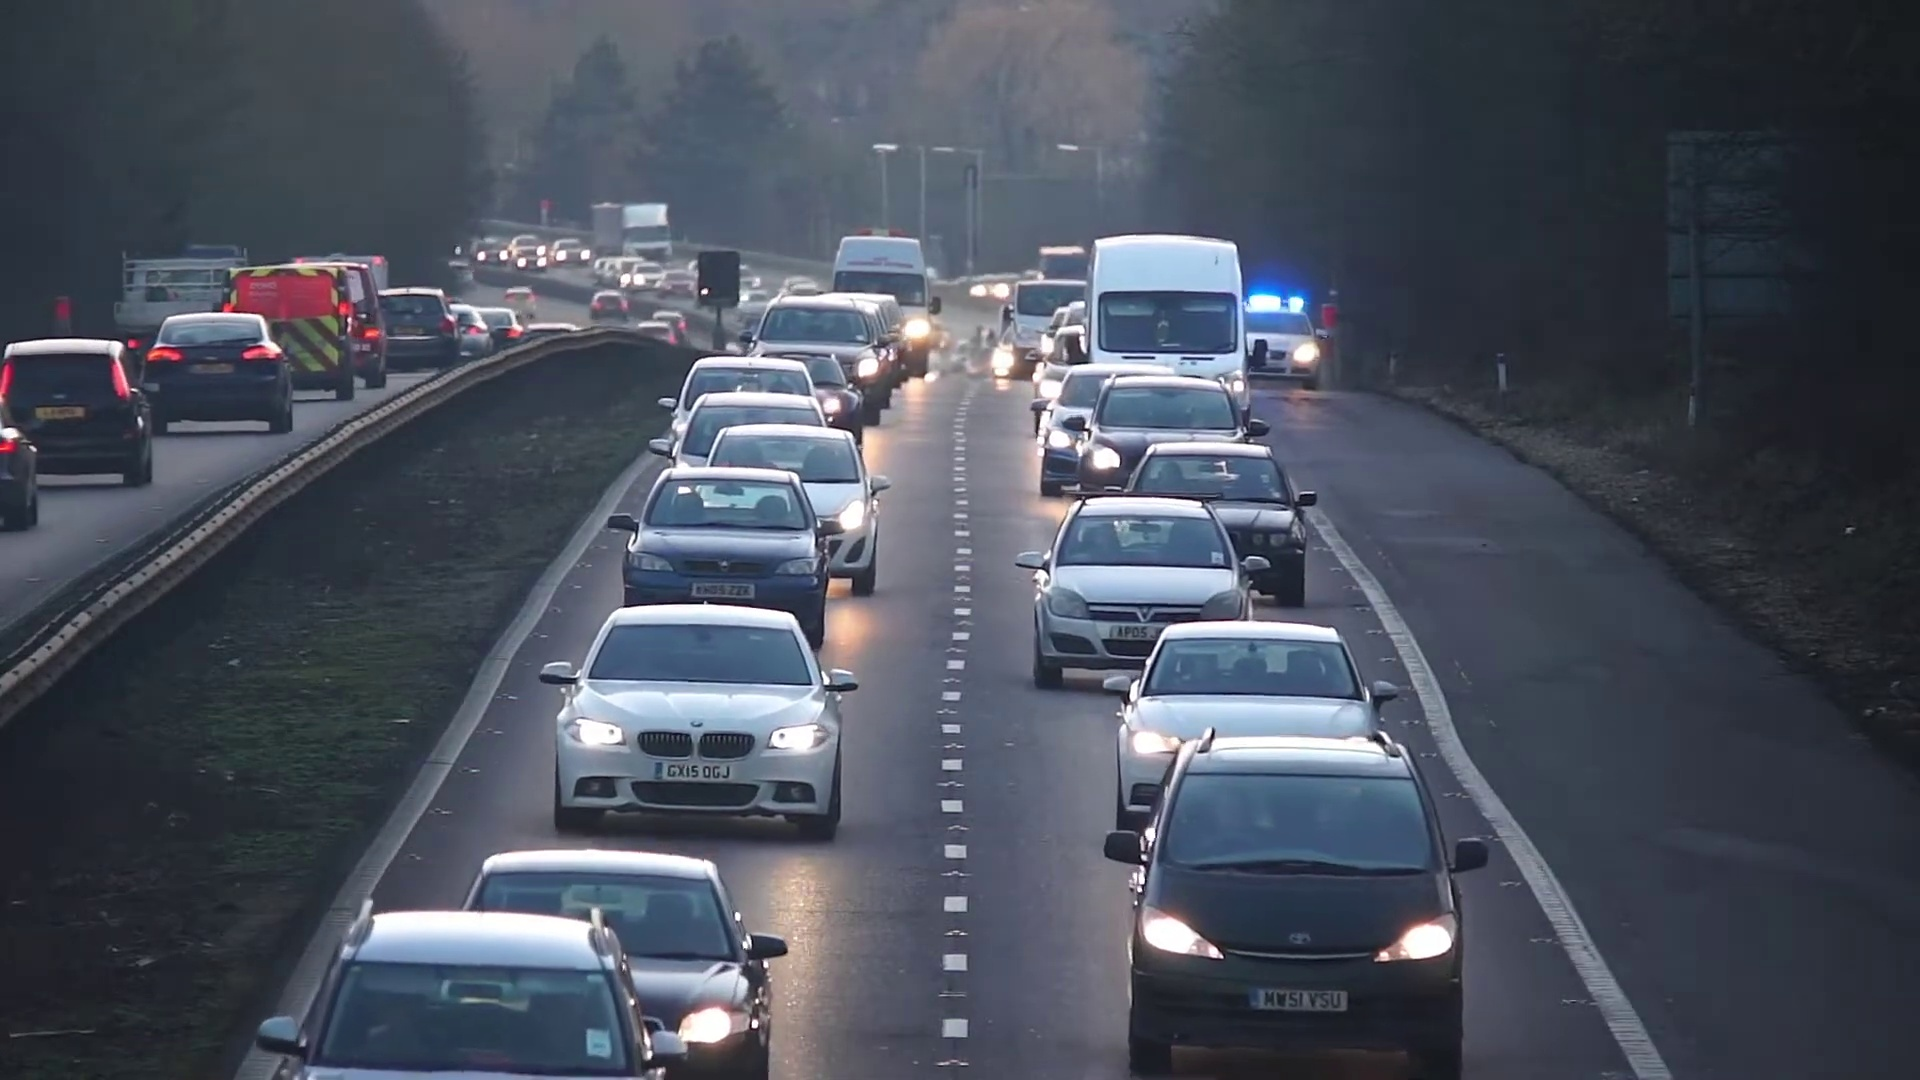license_plate: (1251, 988, 1350, 1013), (659, 759, 738, 785), (690, 583, 759, 599), (1116, 622, 1154, 646)
